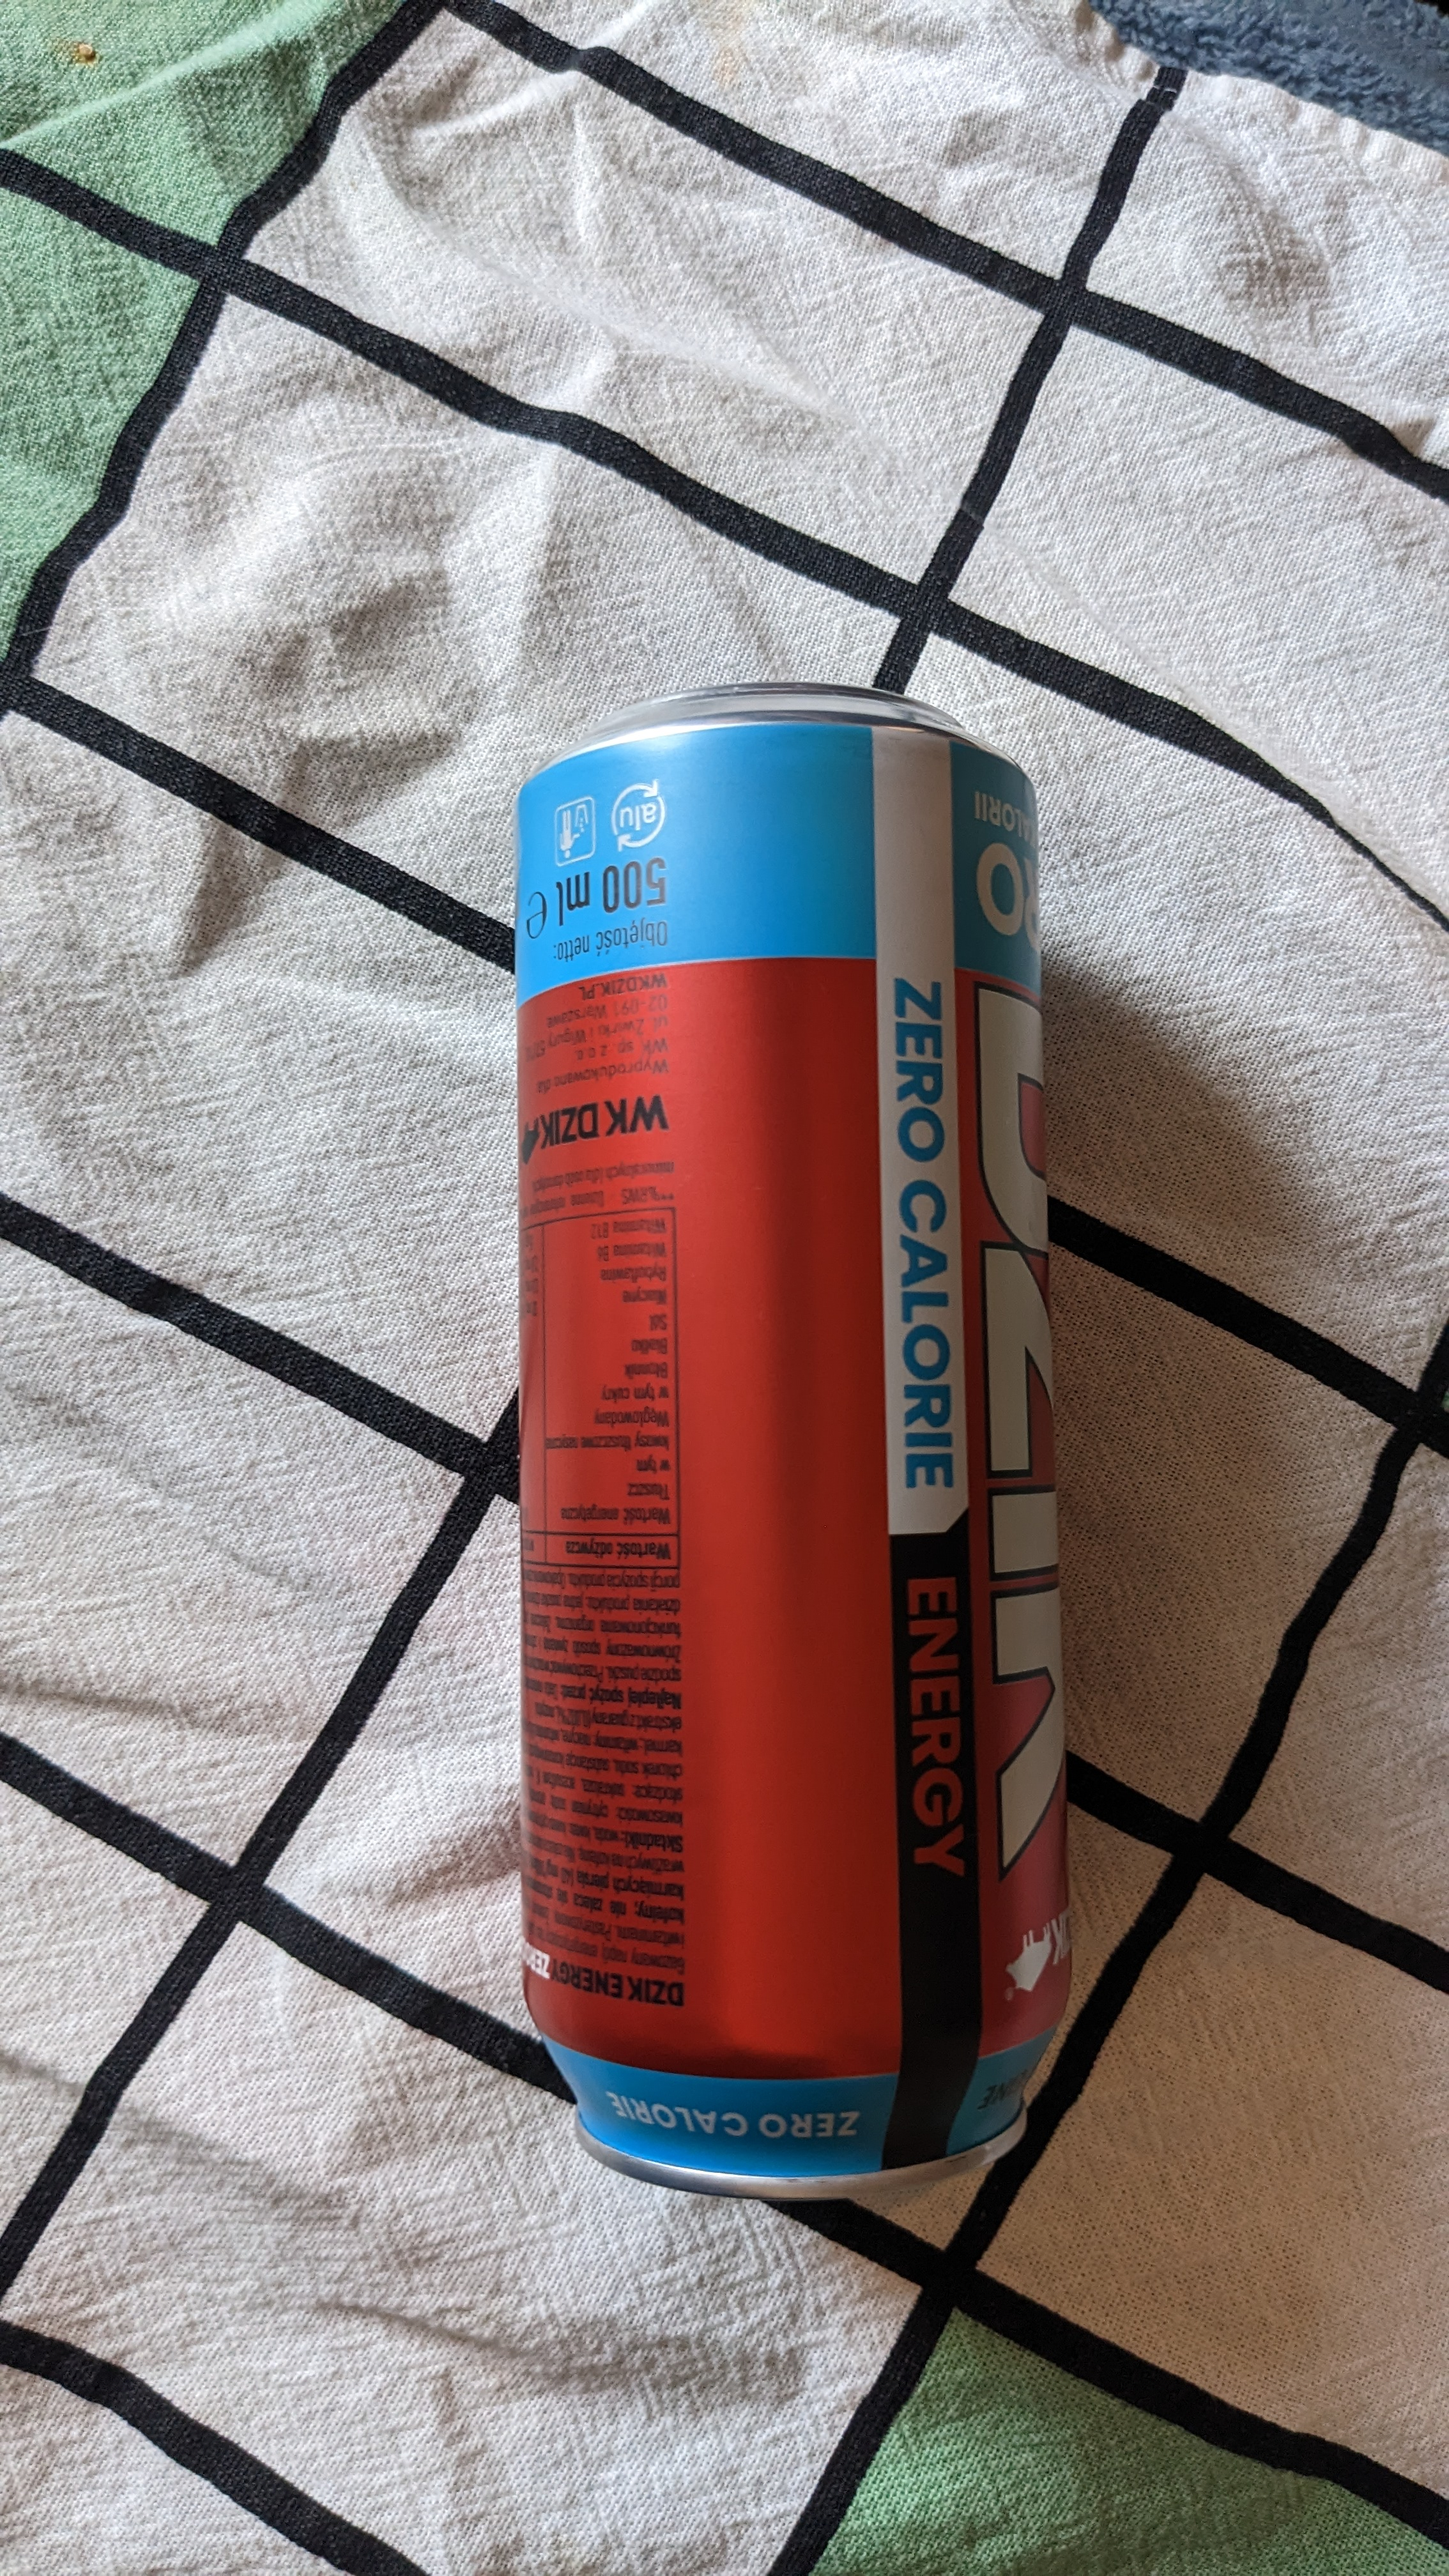dzik: (481, 681, 1106, 2226)
